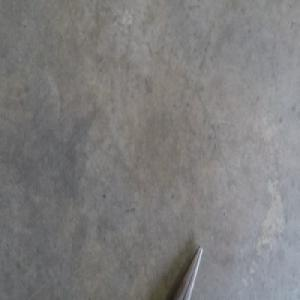Pliers: (172, 245, 202, 298)
